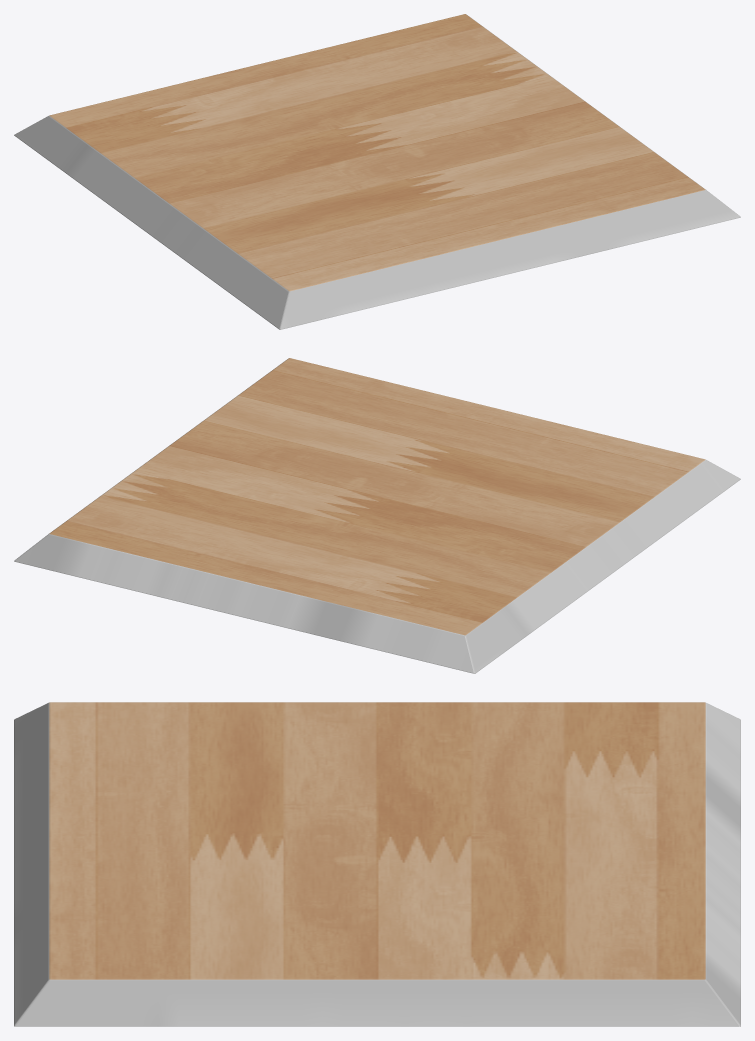
File: Bedroom_Floor.fbx
3 renders of one model, top to bottom at view 1: azimuth 30°, elevation 25°; view 2: azimuth 150°, elevation 25°; view 3: azimuth 270°, elevation 25°, orthographic. The views are drawn at different scales.
Visible parts, largest first — view 1: Bedroom_Floor; view 2: Bedroom_Floor; view 3: Bedroom_Floor.
Boxes of the visible parts, <box> form: Bedroom_Floor: <box>14,14,740,329</box>; Bedroom_Floor: <box>14,358,740,673</box>; Bedroom_Floor: <box>14,702,740,1026</box>.
Size of the model in its own units: 504 by 25.01 by 504.
